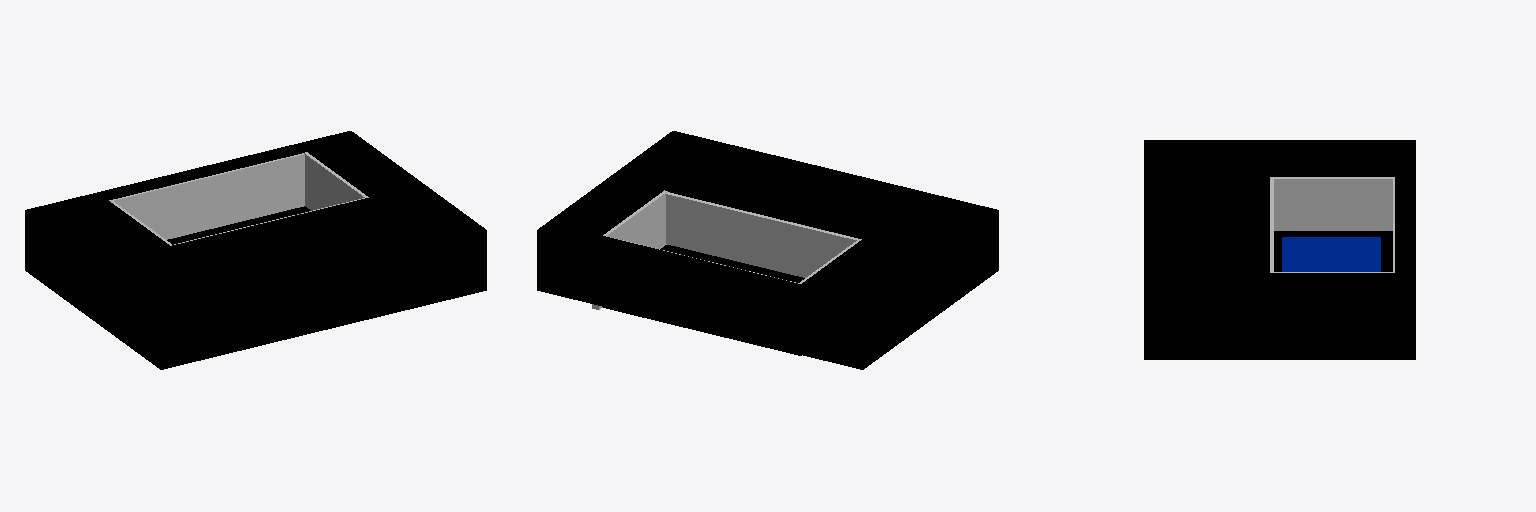
File: bain_docks.obj
The picture shows the model from 3 angles: view 1: azimuth 30°, elevation 25°; view 2: azimuth 150°, elevation 25°; view 3: azimuth 270°, elevation 25°; orthographic projection.
Parts seen in each view (by area): view 1: bain_docks, Cube.002, Cube.003; view 2: bain_docks, Cube.001, Cube.003; view 3: bain_docks, Cube.004, Cube.
Boxes of the visible parts, x1=… form: bain_docks: x1=25, y1=131, x2=486, y2=369; Cube.002: x1=109, y1=153, x2=304, y2=239; Cube.003: x1=304, y1=152, x2=368, y2=210; bain_docks: x1=537, y1=131, x2=998, y2=369; Cube.001: x1=666, y1=192, x2=857, y2=277; Cube.003: x1=592, y1=190, x2=667, y2=309; bain_docks: x1=1144, y1=140, x2=1415, y2=359; Cube.004: x1=1270, y1=177, x2=1392, y2=230; Cube: x1=1282, y1=237, x2=1380, y2=271.
Bounding box in the file's own units: 90 × 19 × 65.